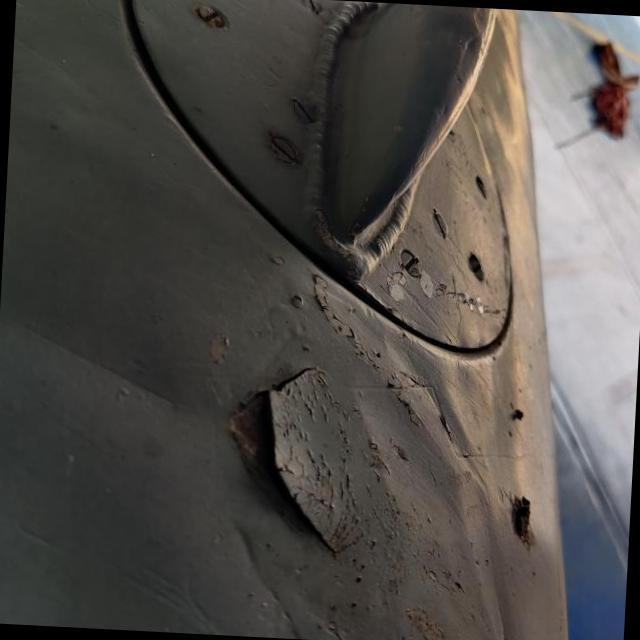Rupture: (204, 343, 393, 566)
